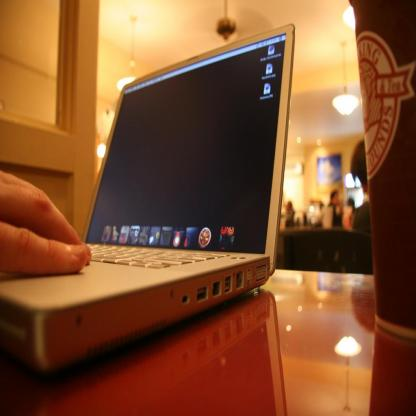board: (26, 34, 300, 375), (349, 0, 416, 345)
